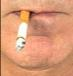Cigarette: (15, 10, 29, 51)
